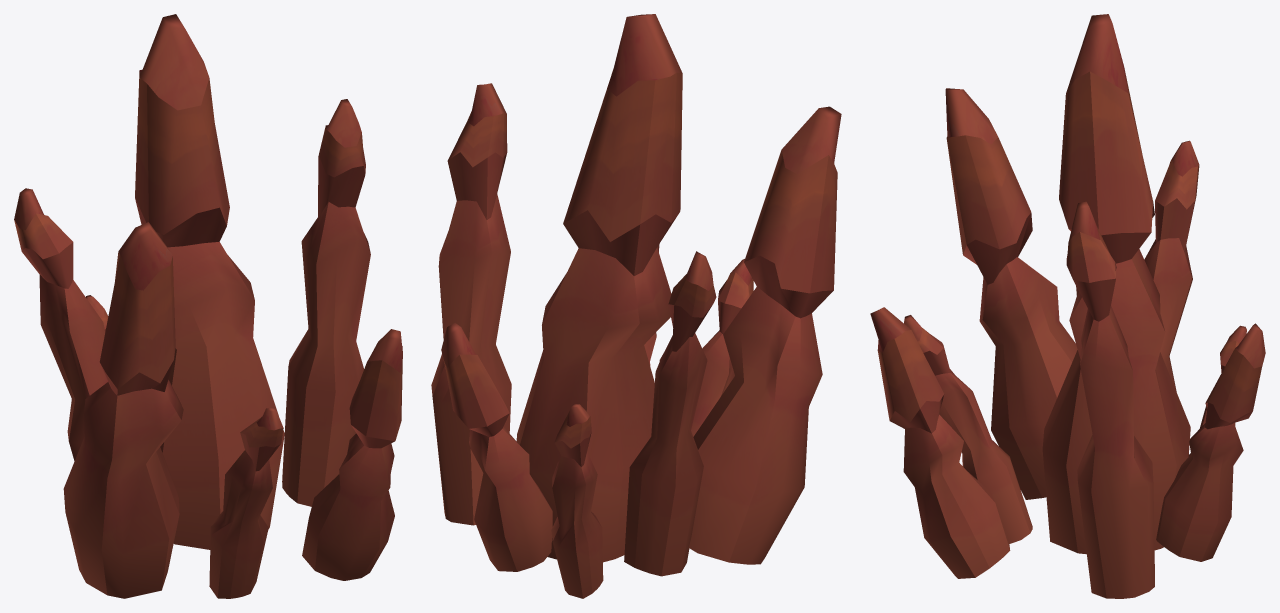
The model's file is S_Rock_01.fbx.
The picture shows the model from 3 angles, left to right: view 1: azimuth 30°, elevation 25°; view 2: azimuth 150°, elevation 25°; view 3: azimuth 270°, elevation 25°; orthographic projection. The views are drawn at different scales.
Visible parts, largest first — view 1: Jungle_Rock_17; view 2: Jungle_Rock_17; view 3: Jungle_Rock_17.
Part boxes in pixels (x1=…): Jungle_Rock_17: x1=14, y1=14, x2=402, y2=598; Jungle_Rock_17: x1=431, y1=14, x2=841, y2=598; Jungle_Rock_17: x1=870, y1=14, x2=1265, y2=598.
Size of the model in its own units: 279 by 453 by 313.
